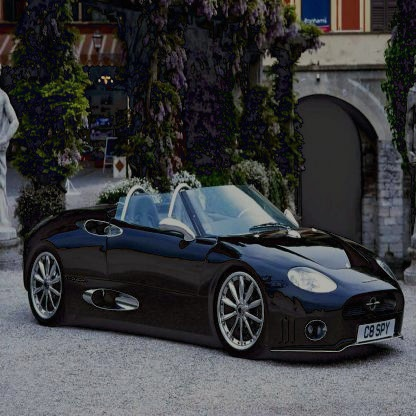Vehicle: (17, 177, 410, 364)
